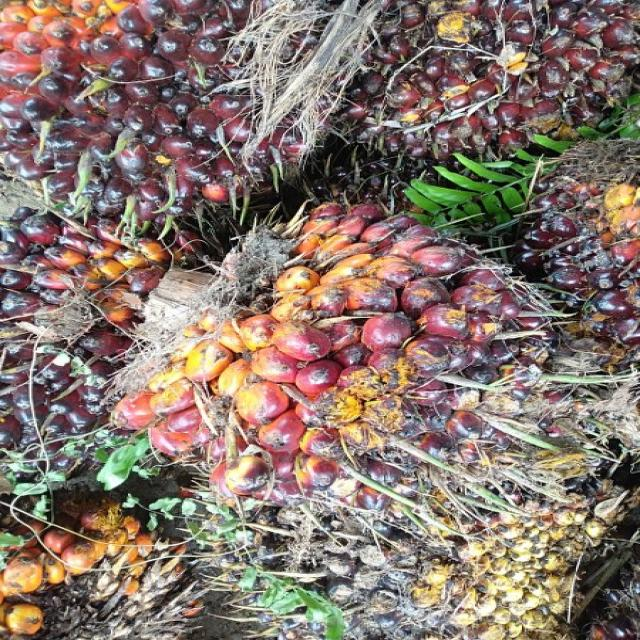fraksi 3: (93, 185, 550, 500)
